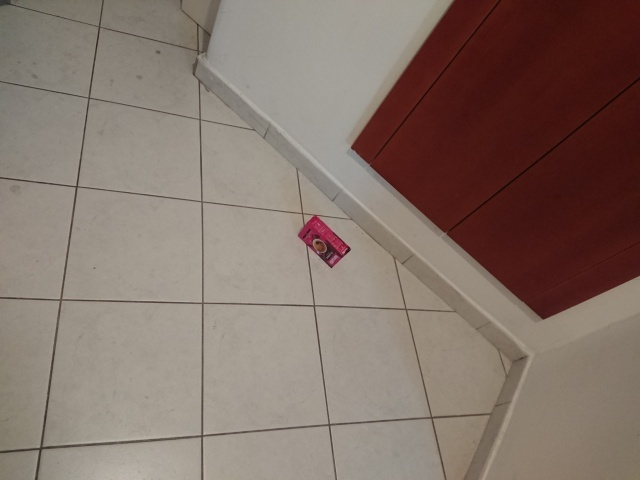Barcaffe Classic Original 225g: (296, 214, 353, 270)
